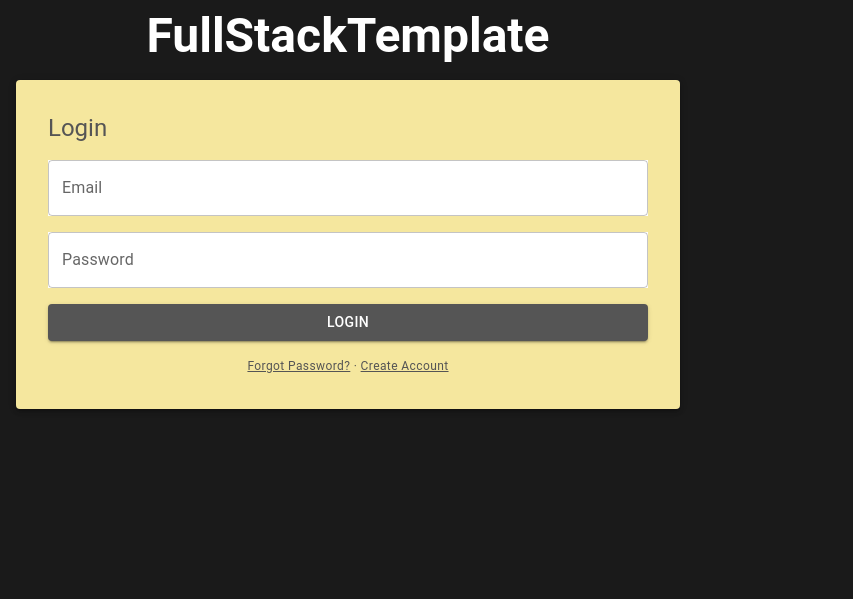
Test: real session route lifecycle › login reports a current request’s storage failure
This screenshot has width=853, height=599.
In the field labelled "Email": (348, 188) x1=48 y1=160 x2=648 y2=216, type "reader@example.com"
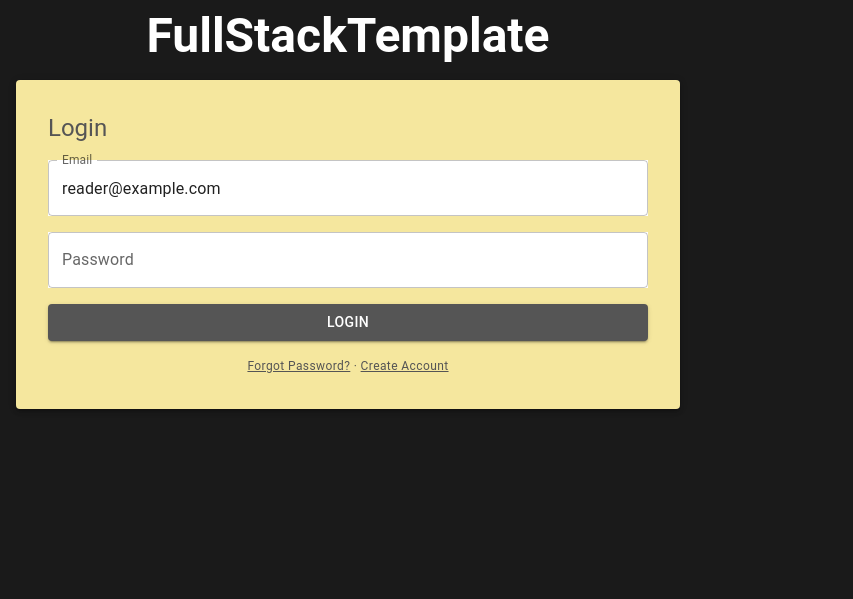
In the password field labelled "Password": (348, 260) x1=48 y1=232 x2=648 y2=288, type "password123"
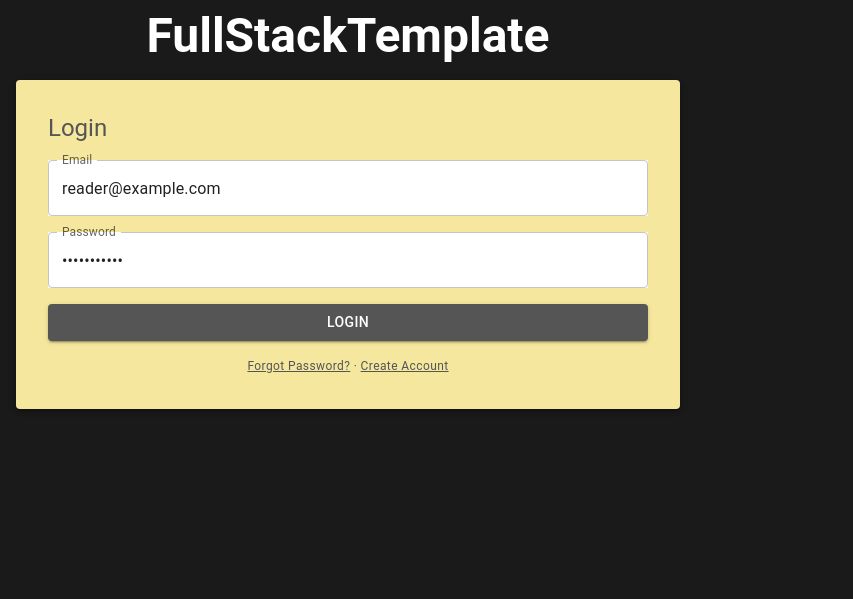
Submit the form, box x1=48 y1=160 x2=648 y2=377
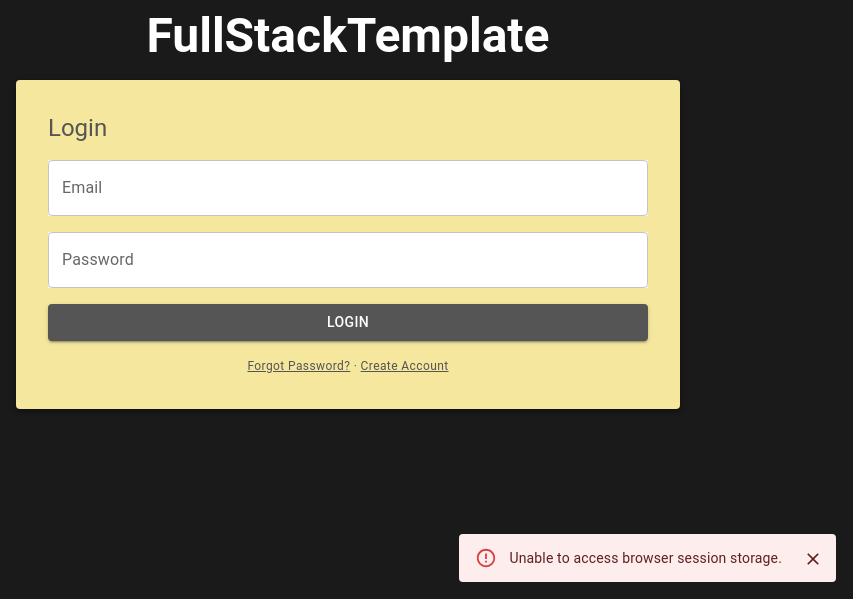
Result: the message reads "Unable to access browser session storage." at x1=510 y1=550 x2=782 y2=566
